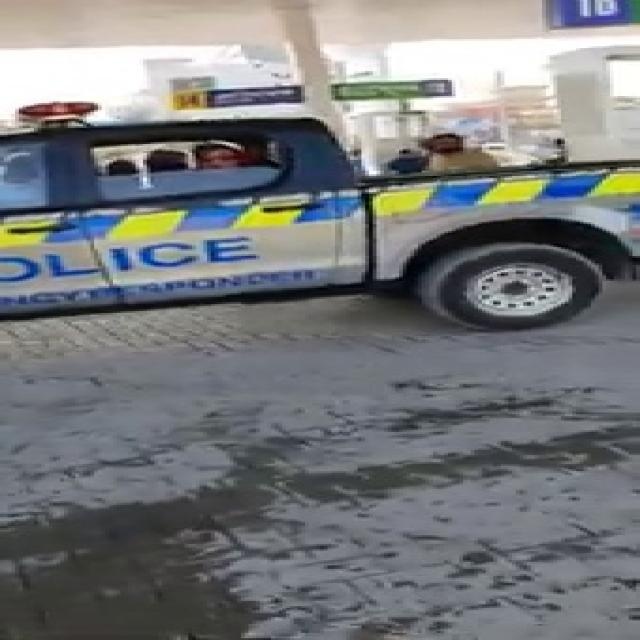police: (0, 96, 629, 318)
